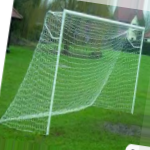goals: (2, 7, 146, 137)
